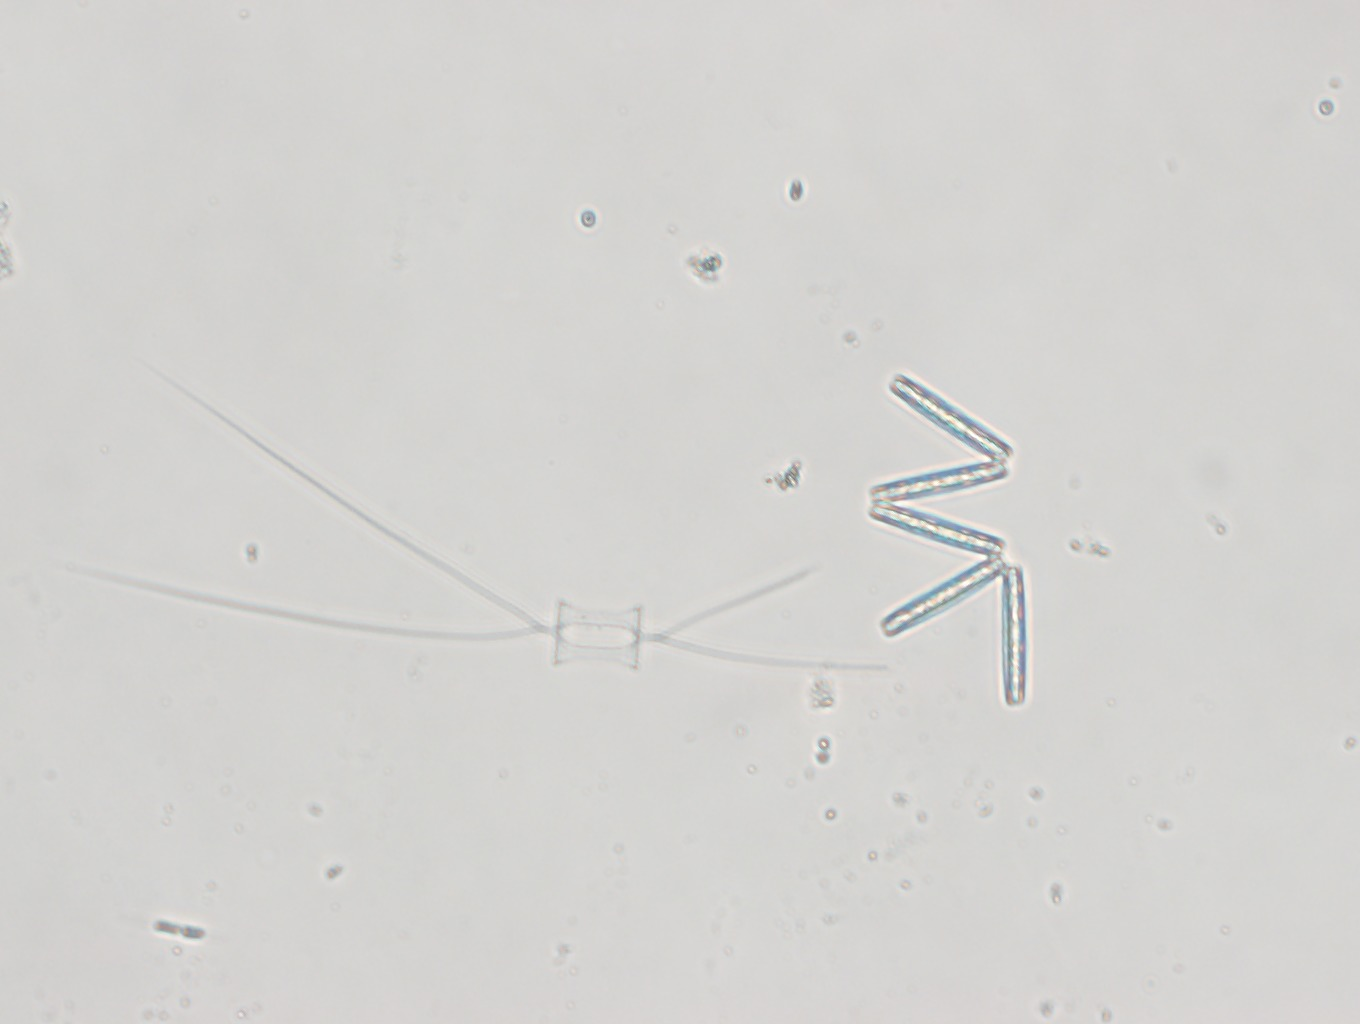chaetoceros: (48, 366, 889, 703)
thalassionema nitzschioides: (867, 369, 1029, 707)
